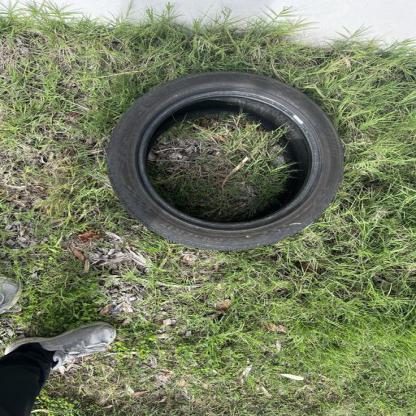Tire: (104, 71, 347, 251)
